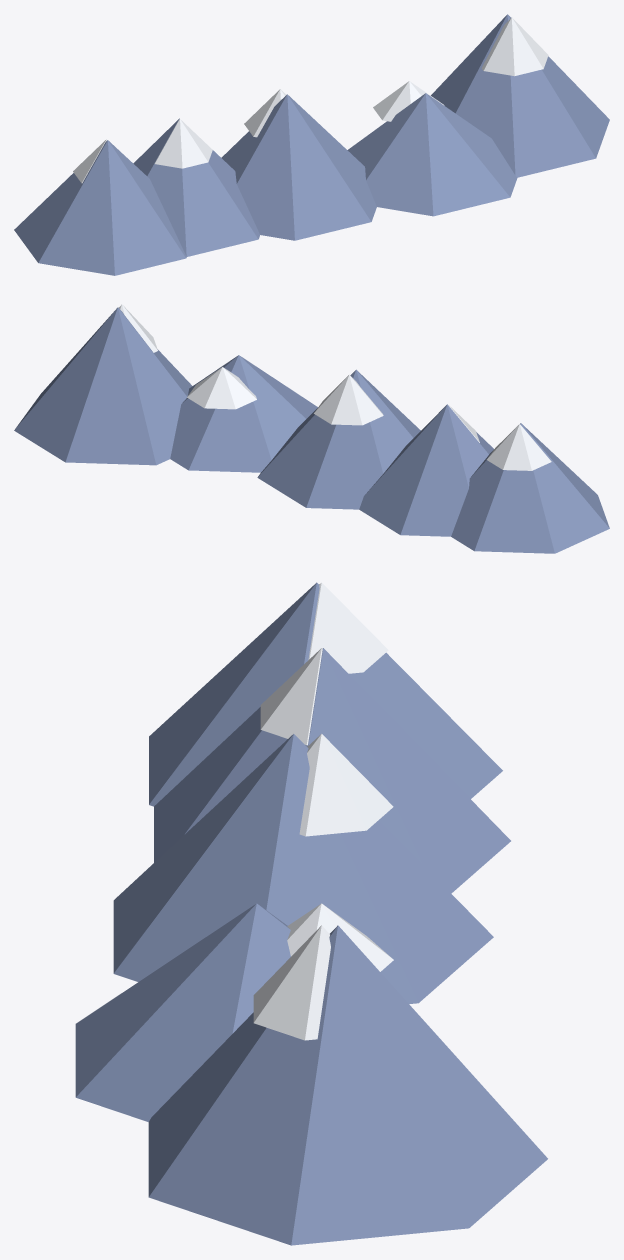
File: mountains.glb
The picture shows the model from 3 angles, top to bottom: view 1: azimuth 30°, elevation 25°; view 2: azimuth 150°, elevation 25°; view 3: azimuth 270°, elevation 25°; orthographic projection. The views are drawn at different scales.
Visible parts, largest first — view 1: mountains_mesh; view 2: mountains_mesh; view 3: mountains_mesh.
Part boxes in pixels (x1=…): mountains_mesh: x1=14, y1=14, x2=609, y2=275; mountains_mesh: x1=14, y1=304, x2=609, y2=553; mountains_mesh: x1=75, y1=582, x2=547, y2=1245.
Size of the model in its own units: 111 by 21.86 by 40.07.
